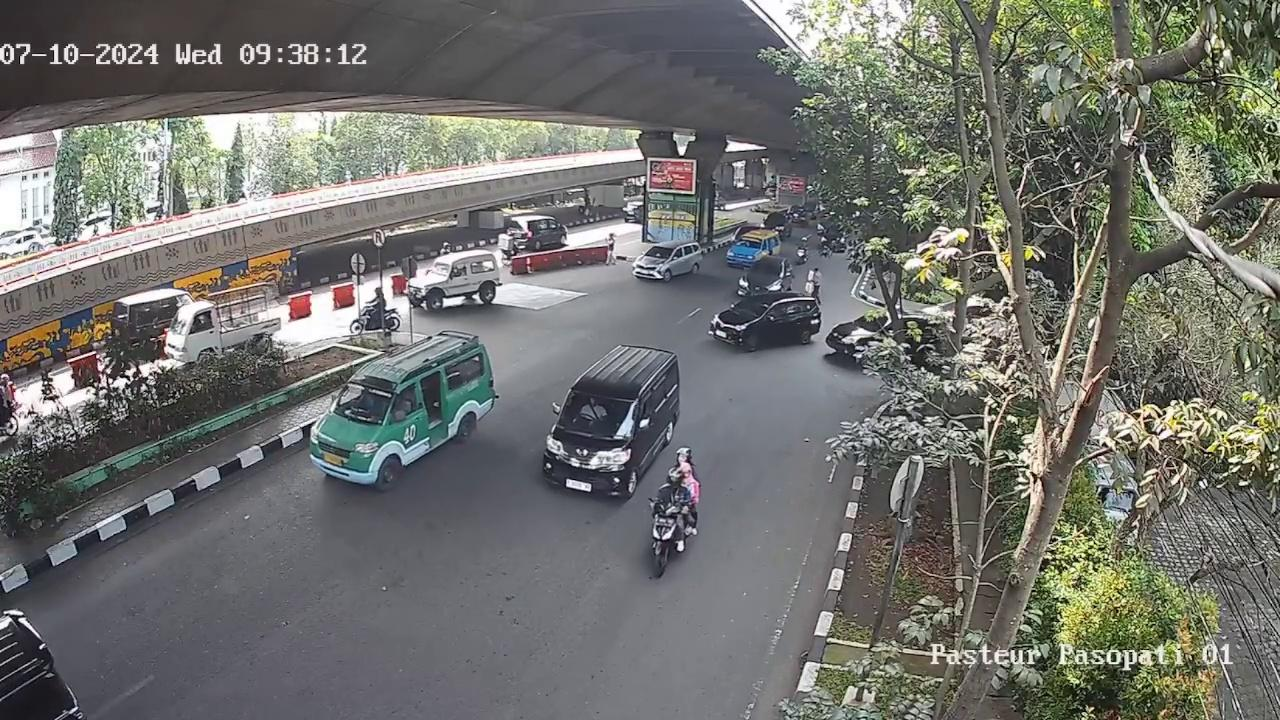pakai: (582, 397, 609, 429)
windshield: (560, 389, 639, 441), (330, 381, 398, 416)
